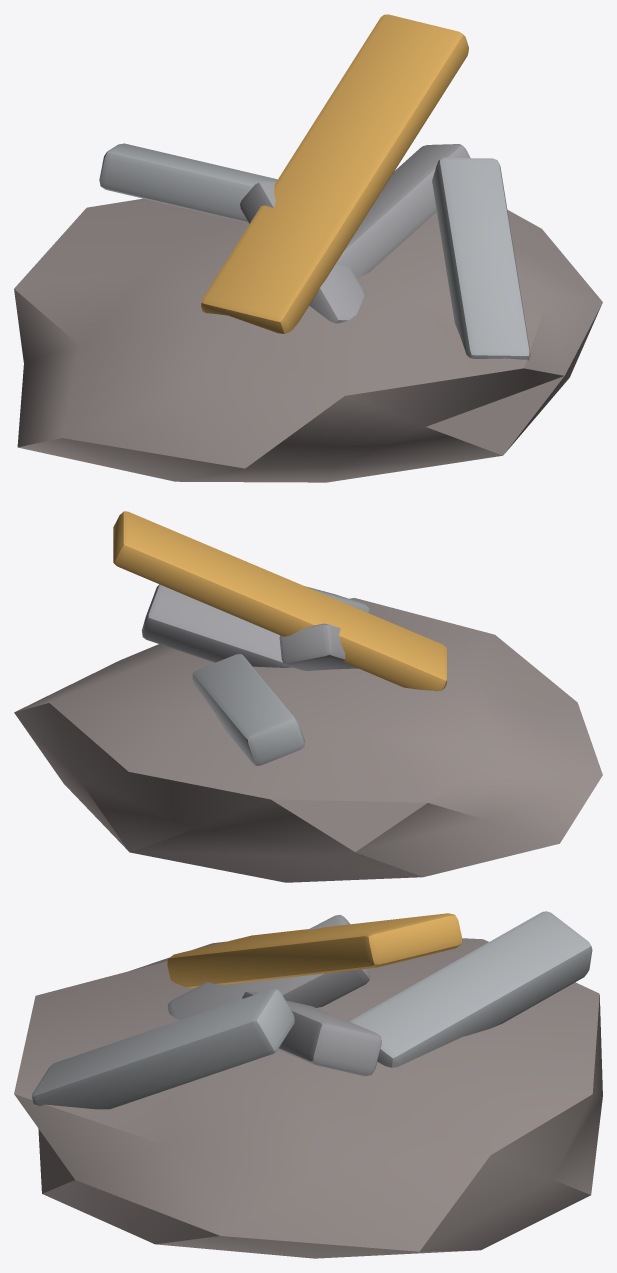
File: prop_debris.glb
3 renders of one model, top to bottom at view 1: azimuth 30°, elevation 25°; view 2: azimuth 150°, elevation 25°; view 3: azimuth 270°, elevation 25°, orthographic. The views are drawn at different scales.
Visible parts, largest first — view 1: prop_debris; view 2: prop_debris; view 3: prop_debris.
Part boxes in pixels (left/top/right/bottom): prop_debris: left=14, top=14, right=602, bottom=482; prop_debris: left=14, top=511, right=602, bottom=882; prop_debris: left=14, top=911, right=602, bottom=1258.
Size of the model in its own units: 0.8088 by 0.4386 by 0.6528.
